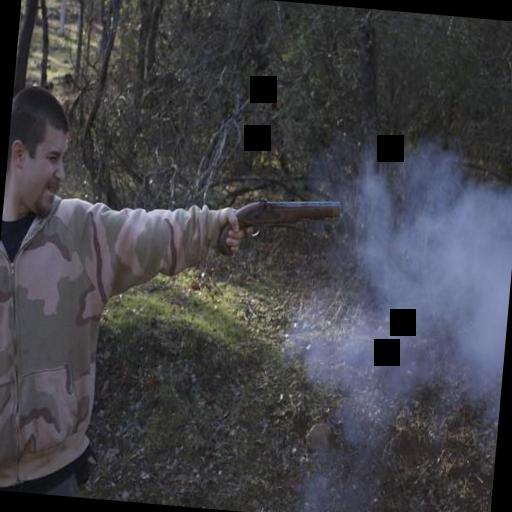Handgun: (216, 188, 340, 263)
